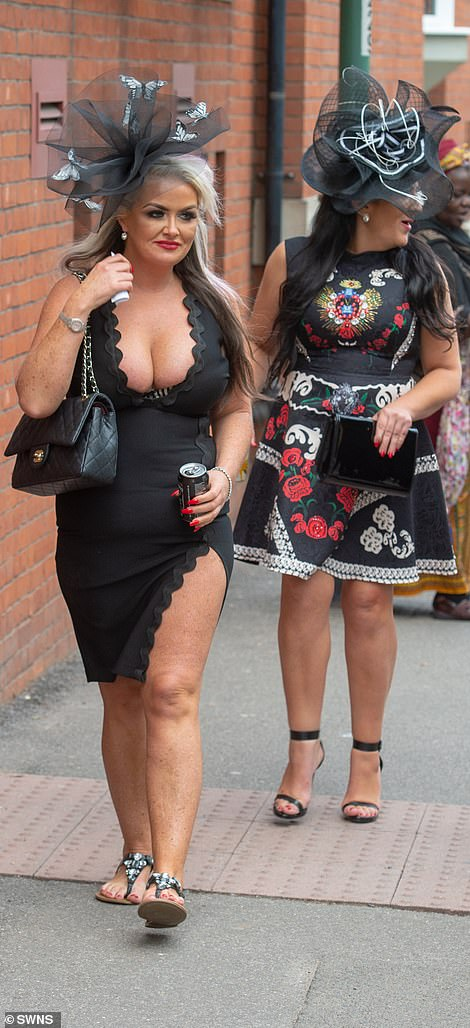Person: (6, 68, 252, 930), (254, 68, 463, 825)
